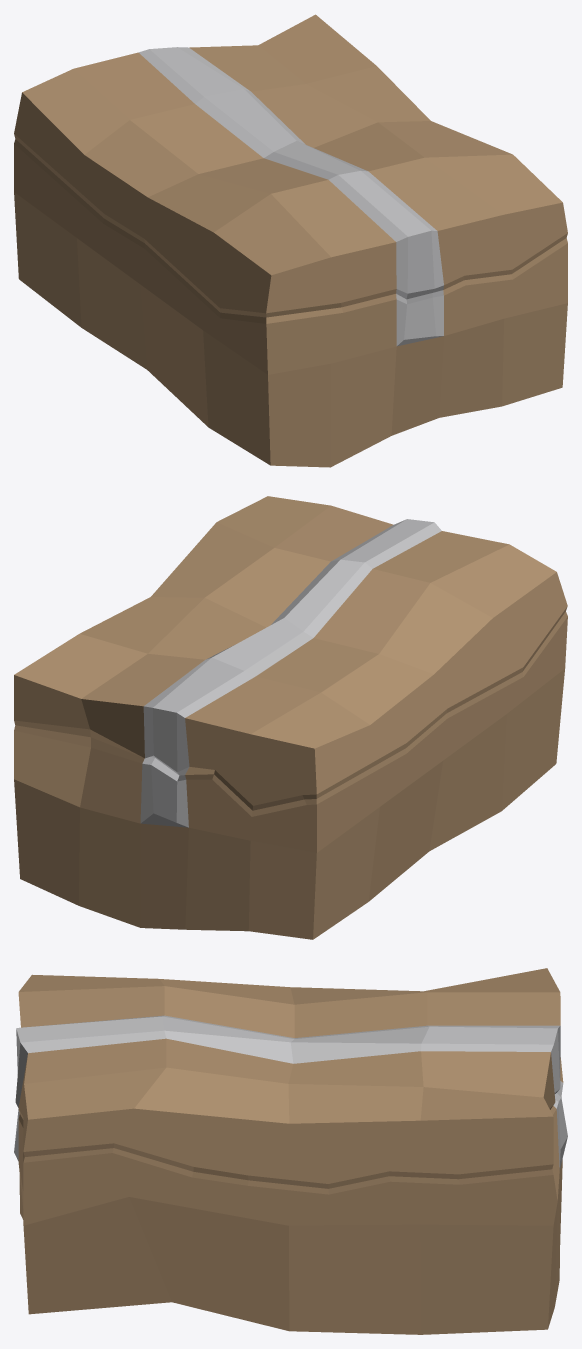
Rendered from BORKEN_small_Cardboard_BOX.fbx.
The picture shows the model from 3 angles, top to bottom: view 1: azimuth 30°, elevation 25°; view 2: azimuth 150°, elevation 25°; view 3: azimuth 270°, elevation 25°; orthographic projection. The views are drawn at different scales.
Visible parts, largest first — view 1: Small_Cardboard_Box.003; view 2: Small_Cardboard_Box.003; view 3: Small_Cardboard_Box.003.
Part boxes in pixels (box(x1,y1,x2,y2)): Small_Cardboard_Box.003: box(14, 14, 567, 467); Small_Cardboard_Box.003: box(14, 496, 567, 939); Small_Cardboard_Box.003: box(14, 968, 567, 1334).
Bounding box in the file's own units: 92.81 × 139 × 68.11.
1 material, 1 textured.
